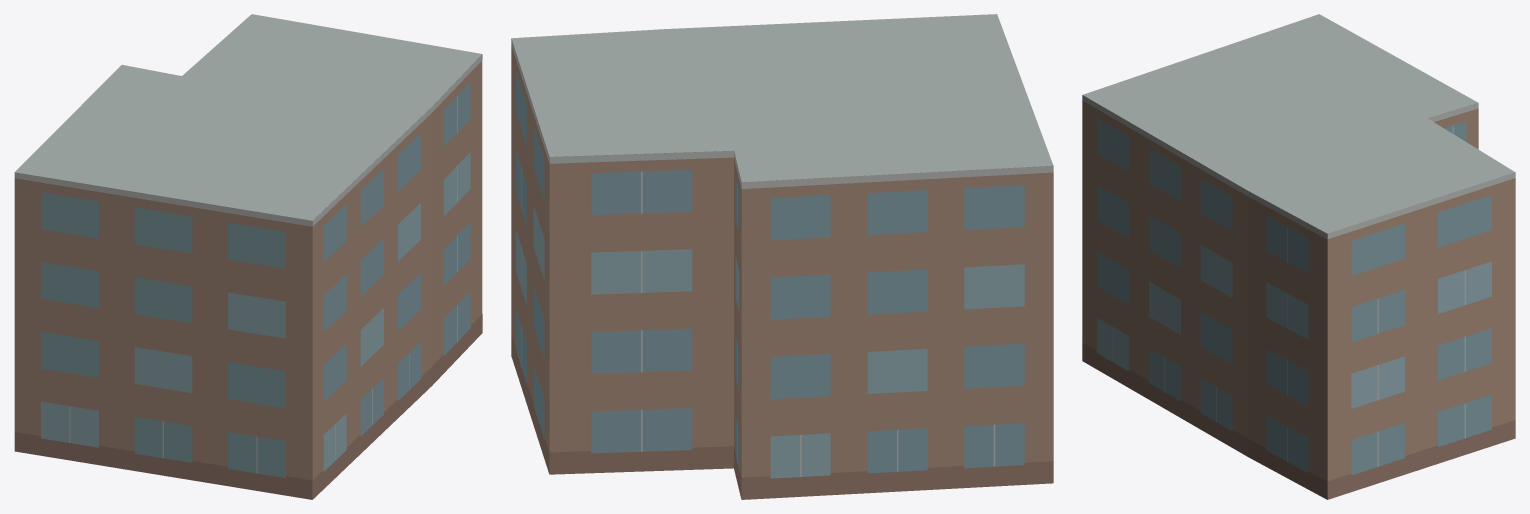
The model's file is survey-upis-32949110.glb.
The picture shows the model from 3 angles, left to right: view 1: azimuth 30°, elevation 25°; view 2: azimuth 150°, elevation 25°; view 3: azimuth 270°, elevation 25°; orthographic projection. The views are drawn at different scales.
Parts seen in each view (by area): view 1: survey-upis-32949110.tmp; view 2: survey-upis-32949110.tmp; view 3: survey-upis-32949110.tmp.
Boxes of the visible parts, left/top/right/bottom form: survey-upis-32949110.tmp: left=14, top=14, right=482, bottom=499; survey-upis-32949110.tmp: left=511, top=14, right=1053, bottom=499; survey-upis-32949110.tmp: left=1082, top=14, right=1515, bottom=499.
Bounding box in the file's own units: 20.19 × 11.4 × 16.82.
